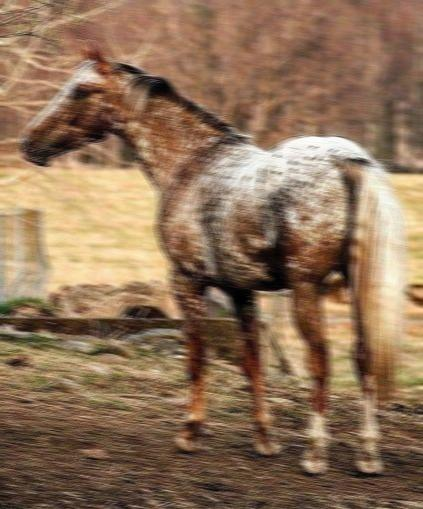horse: (18, 37, 409, 475)
